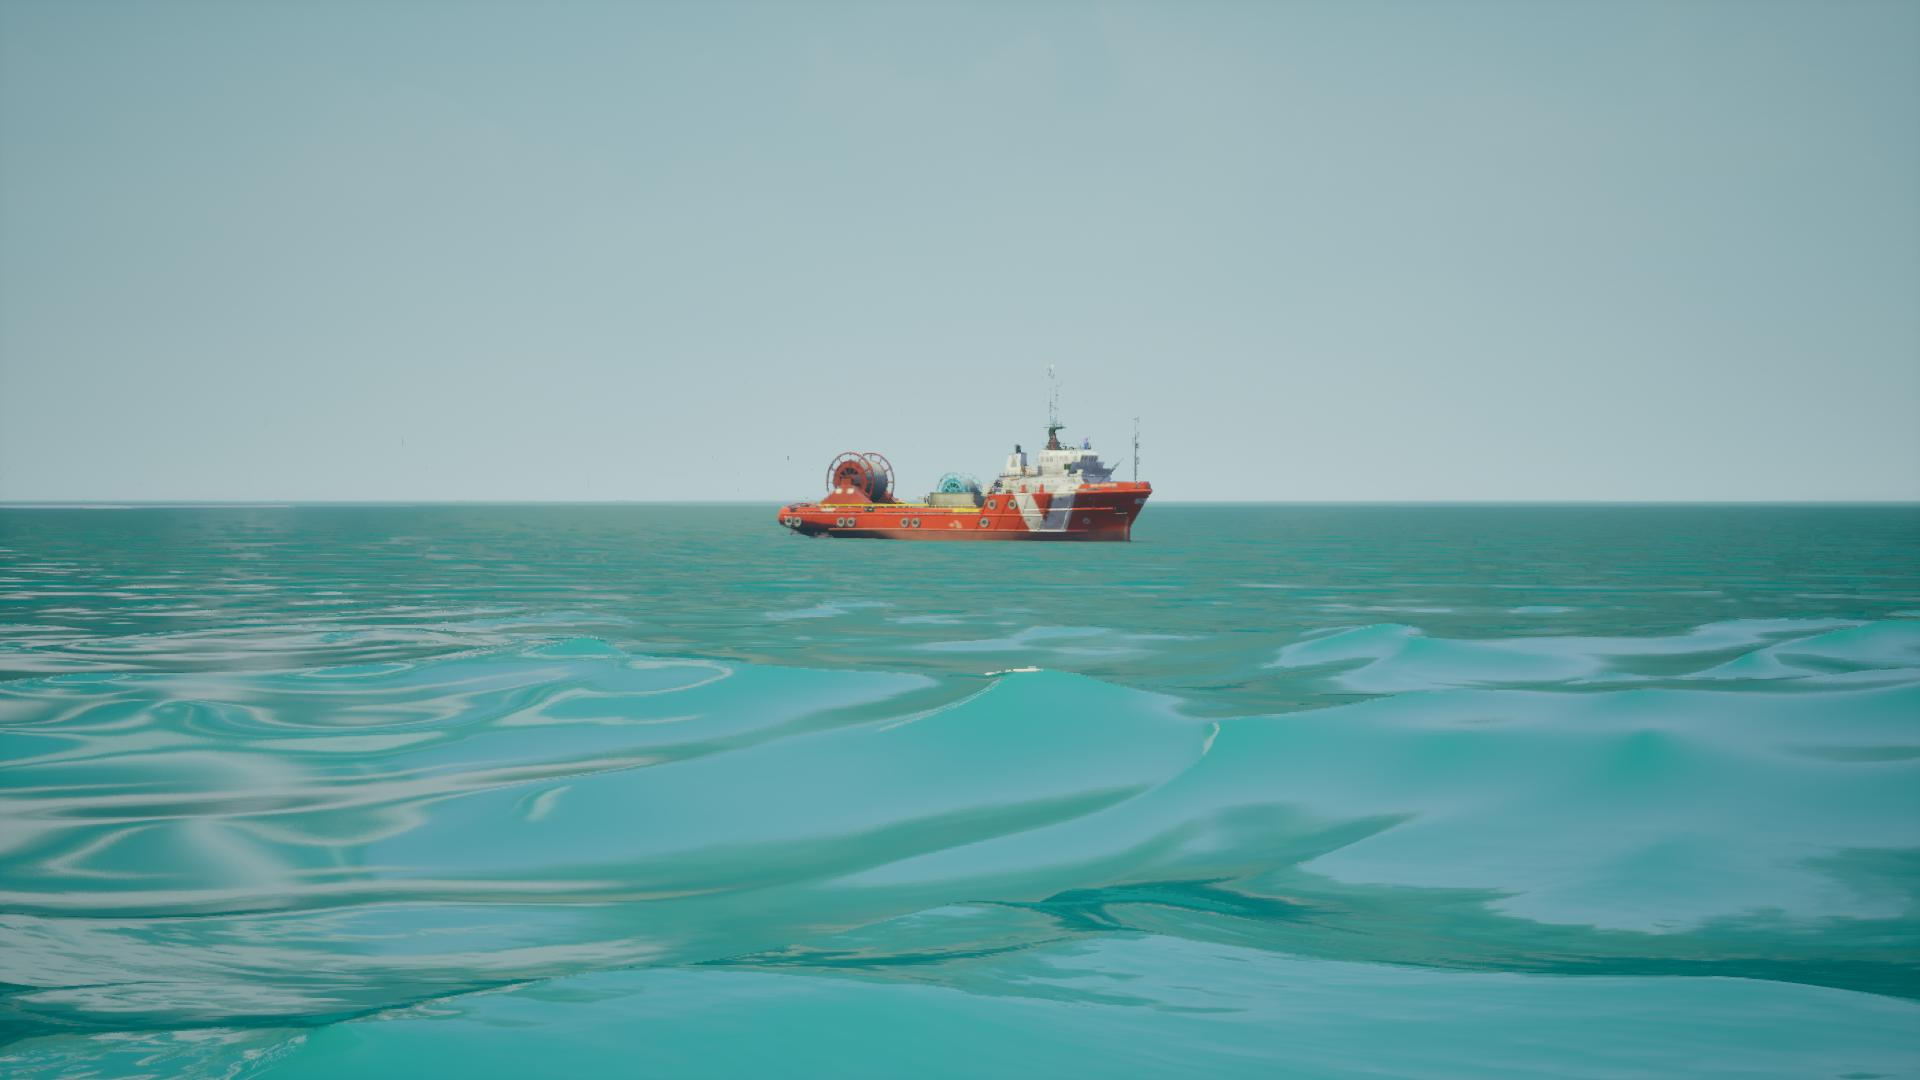Tug Boat: (781, 367, 1150, 546)
